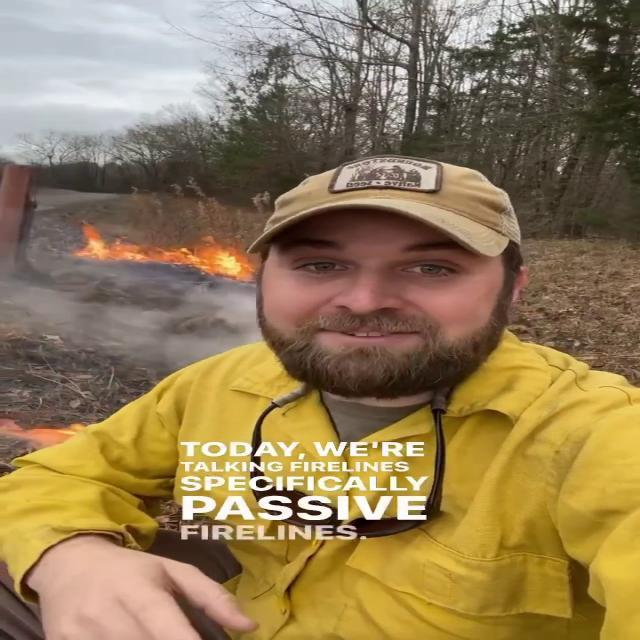Fire: (74, 223, 248, 279)
Smoke: (0, 279, 208, 369)
